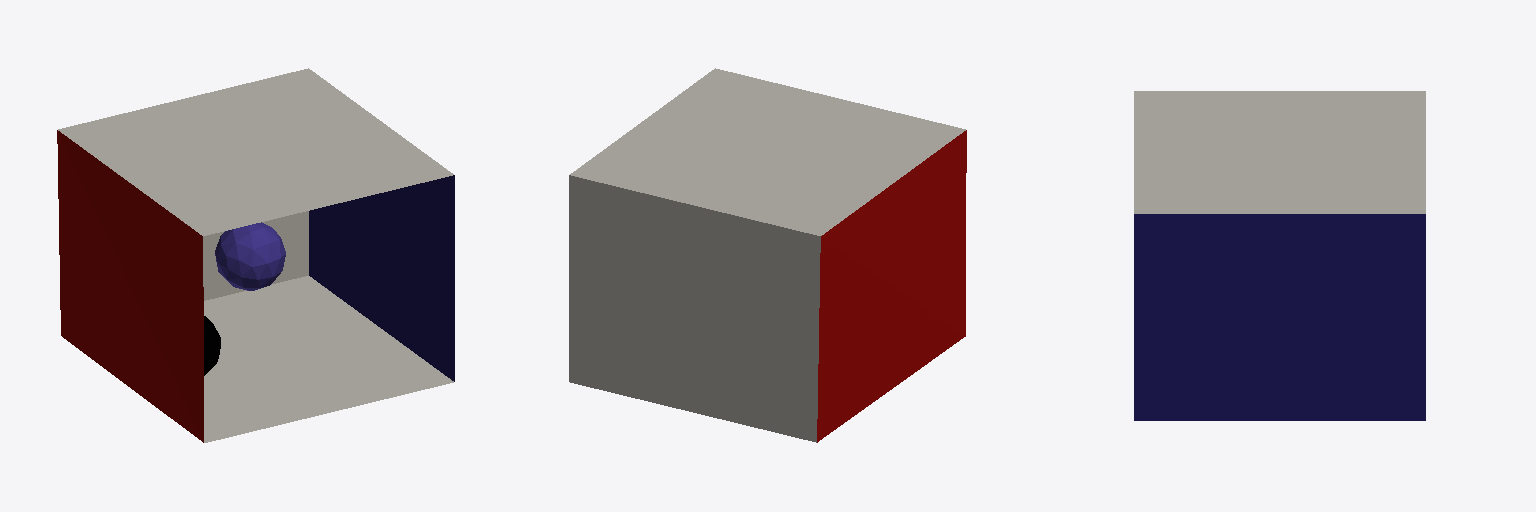
Rendered from CornellBox-Sphere-402.obj.
The picture shows the model from 3 angles: view 1: azimuth 30°, elevation 25°; view 2: azimuth 150°, elevation 25°; view 3: azimuth 270°, elevation 25°; orthographic projection.
Parts seen in each view (by area): view 1: ceiling, leftWall, floor, rightWall, leftSphere, backWall, rightSphere; view 2: backWall, ceiling, leftWall; view 3: rightWall, ceiling.
Boxes of the visible parts, x1,y1,x2,y2 form: ceiling: [58, 68, 453, 235]; leftWall: [57, 130, 203, 442]; floor: [204, 276, 453, 442]; rightWall: [309, 175, 454, 381]; leftSphere: [215, 222, 285, 290]; backWall: [203, 211, 308, 300]; rightSphere: [204, 316, 220, 375]; backWall: [569, 175, 820, 442]; ceiling: [570, 68, 965, 235]; leftWall: [817, 130, 966, 442]; rightWall: [1134, 214, 1425, 420]; ceiling: [1134, 91, 1425, 213].
Bounding box in the file's own units: 2.02 × 1.59 × 2.03.